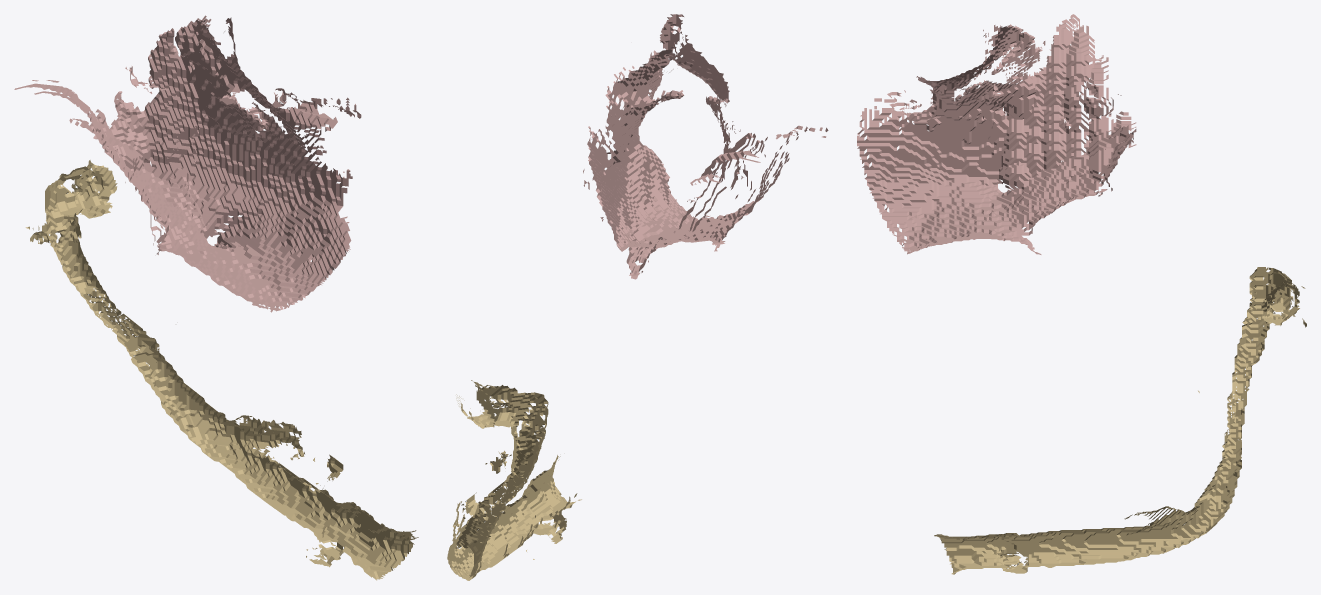
Rendered from skull-temporal-channels.glb.
The picture shows the model from 3 angles, left to right: view 1: azimuth 30°, elevation 25°; view 2: azimuth 150°, elevation 25°; view 3: azimuth 270°, elevation 25°; orthographic projection. The views are drawn at different scales.
Parts seen in each view (by area): view 1: channels|carotid_canal_wall, channels|facial_canal_wall; view 2: channels|carotid_canal_wall, channels|facial_canal_wall; view 3: channels|carotid_canal_wall, channels|facial_canal_wall.
Part boxes in pixels (bbox=[...]): channels|carotid_canal_wall: bbox=[14, 15, 361, 312]; channels|facial_canal_wall: bbox=[25, 160, 418, 580]; channels|carotid_canal_wall: bbox=[583, 14, 828, 279]; channels|facial_canal_wall: bbox=[447, 380, 581, 580]; channels|carotid_canal_wall: bbox=[857, 14, 1136, 254]; channels|facial_canal_wall: bbox=[934, 267, 1306, 574].
Size of the model in its own units: 0.0159 by 0.0283 by 0.0226.
